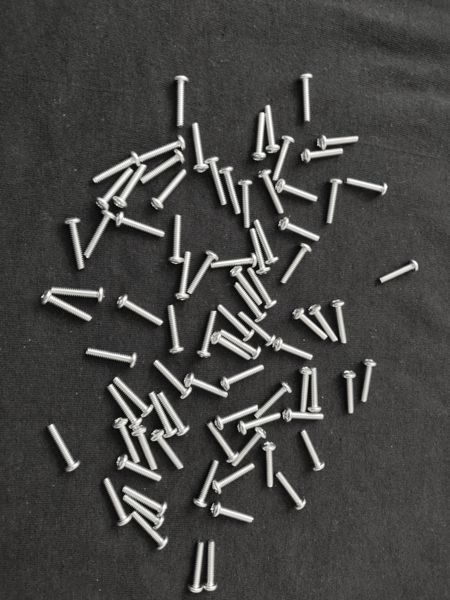longscrew: (40, 289, 93, 323), (112, 376, 154, 418), (94, 167, 134, 211), (46, 423, 81, 473), (106, 383, 143, 430), (92, 151, 141, 185), (150, 168, 188, 211), (84, 210, 116, 261), (140, 149, 185, 185), (112, 164, 147, 210), (153, 360, 193, 400), (131, 510, 170, 551), (117, 294, 164, 328), (157, 391, 191, 437), (122, 484, 168, 518), (254, 381, 293, 420), (187, 250, 220, 296), (123, 495, 166, 530), (136, 134, 186, 164), (102, 477, 132, 527), (217, 304, 255, 343), (237, 311, 277, 348), (231, 427, 267, 468), (149, 429, 184, 471), (233, 282, 268, 323), (115, 212, 166, 240), (111, 417, 141, 464), (212, 463, 256, 495), (229, 266, 263, 307), (149, 391, 178, 439), (280, 243, 313, 285), (206, 421, 239, 463), (116, 453, 162, 483), (192, 460, 220, 509), (247, 266, 278, 310), (220, 329, 262, 360), (292, 307, 329, 342), (211, 331, 252, 362), (214, 404, 259, 432), (308, 304, 340, 343), (63, 217, 86, 271), (257, 169, 284, 214), (184, 372, 229, 399), (220, 364, 265, 391), (131, 426, 158, 471), (276, 471, 307, 510), (204, 156, 228, 206), (254, 219, 279, 266), (299, 429, 326, 472), (272, 135, 296, 183), (196, 309, 219, 359), (278, 216, 320, 243), (237, 412, 282, 437), (210, 501, 255, 526), (85, 347, 138, 368), (219, 167, 242, 215), (275, 179, 319, 203), (249, 229, 271, 276), (379, 259, 420, 284), (190, 122, 210, 173), (166, 304, 186, 355), (50, 285, 106, 303), (273, 337, 314, 361), (187, 540, 205, 594), (173, 75, 190, 129), (325, 178, 344, 226), (263, 105, 281, 155), (174, 251, 192, 301), (345, 177, 389, 197), (330, 299, 349, 345), (168, 214, 185, 265), (237, 179, 254, 229), (211, 252, 258, 270), (360, 358, 378, 404), (203, 539, 218, 593), (252, 111, 268, 161), (261, 441, 278, 488), (282, 407, 326, 424), (308, 367, 324, 413), (341, 370, 357, 415), (316, 134, 360, 150), (301, 148, 345, 164), (298, 367, 313, 413), (300, 73, 313, 123)
